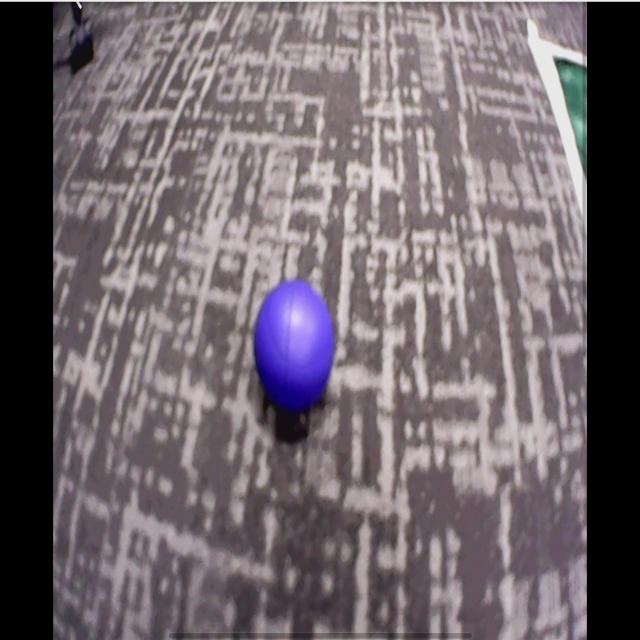ball: (252, 279, 334, 407)
